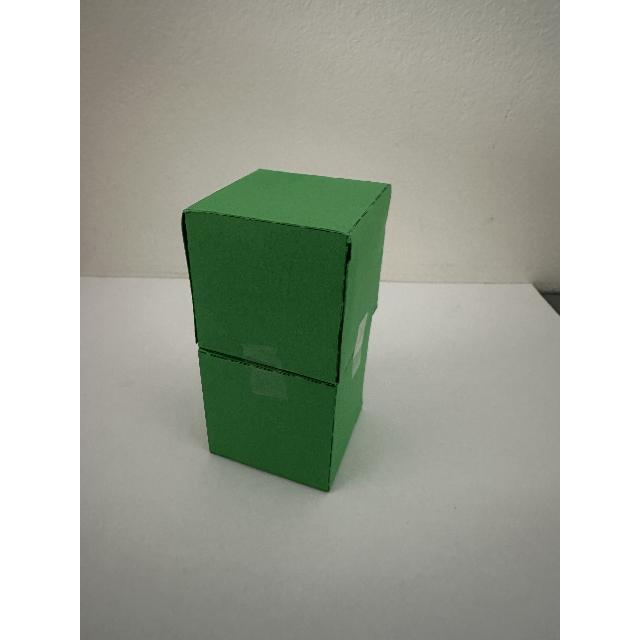green_cube: (177, 133, 488, 515)
